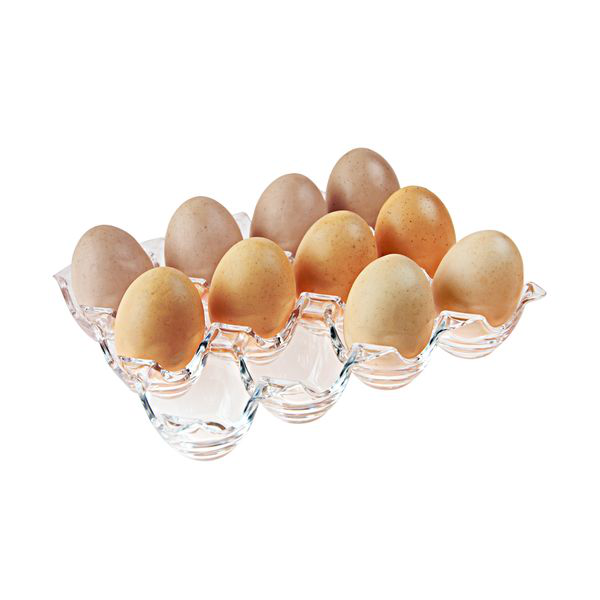egg: (67, 149, 535, 396)
